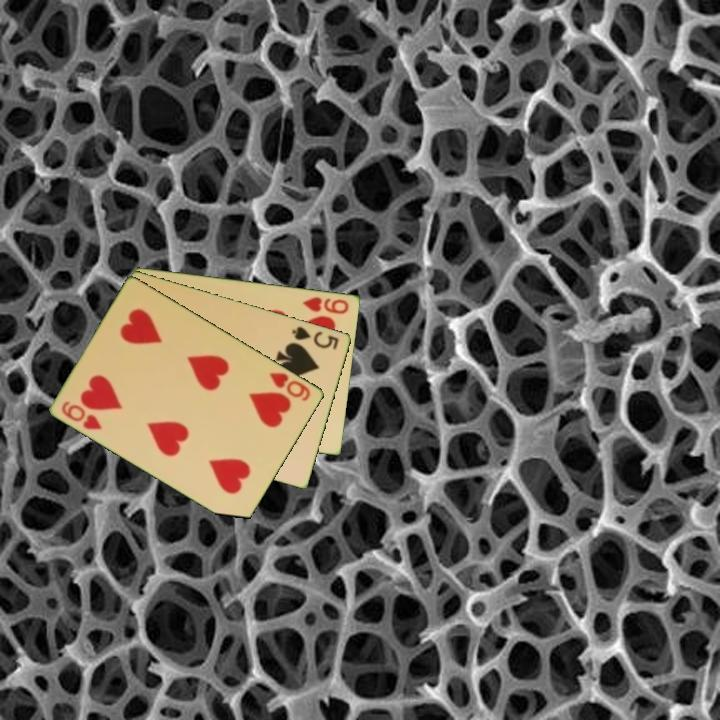5s: (289, 322, 342, 353)
6h: (58, 397, 105, 433), (266, 369, 314, 404)
9h: (299, 293, 352, 317)
